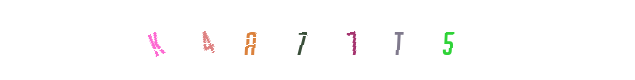4: (193, 0, 273, 80)
5: (408, 0, 488, 80)
7: (262, 0, 342, 80), (277, 0, 357, 80)
A: (262, 0, 342, 80)
K: (117, 0, 197, 80)
T: (328, 0, 408, 80)
